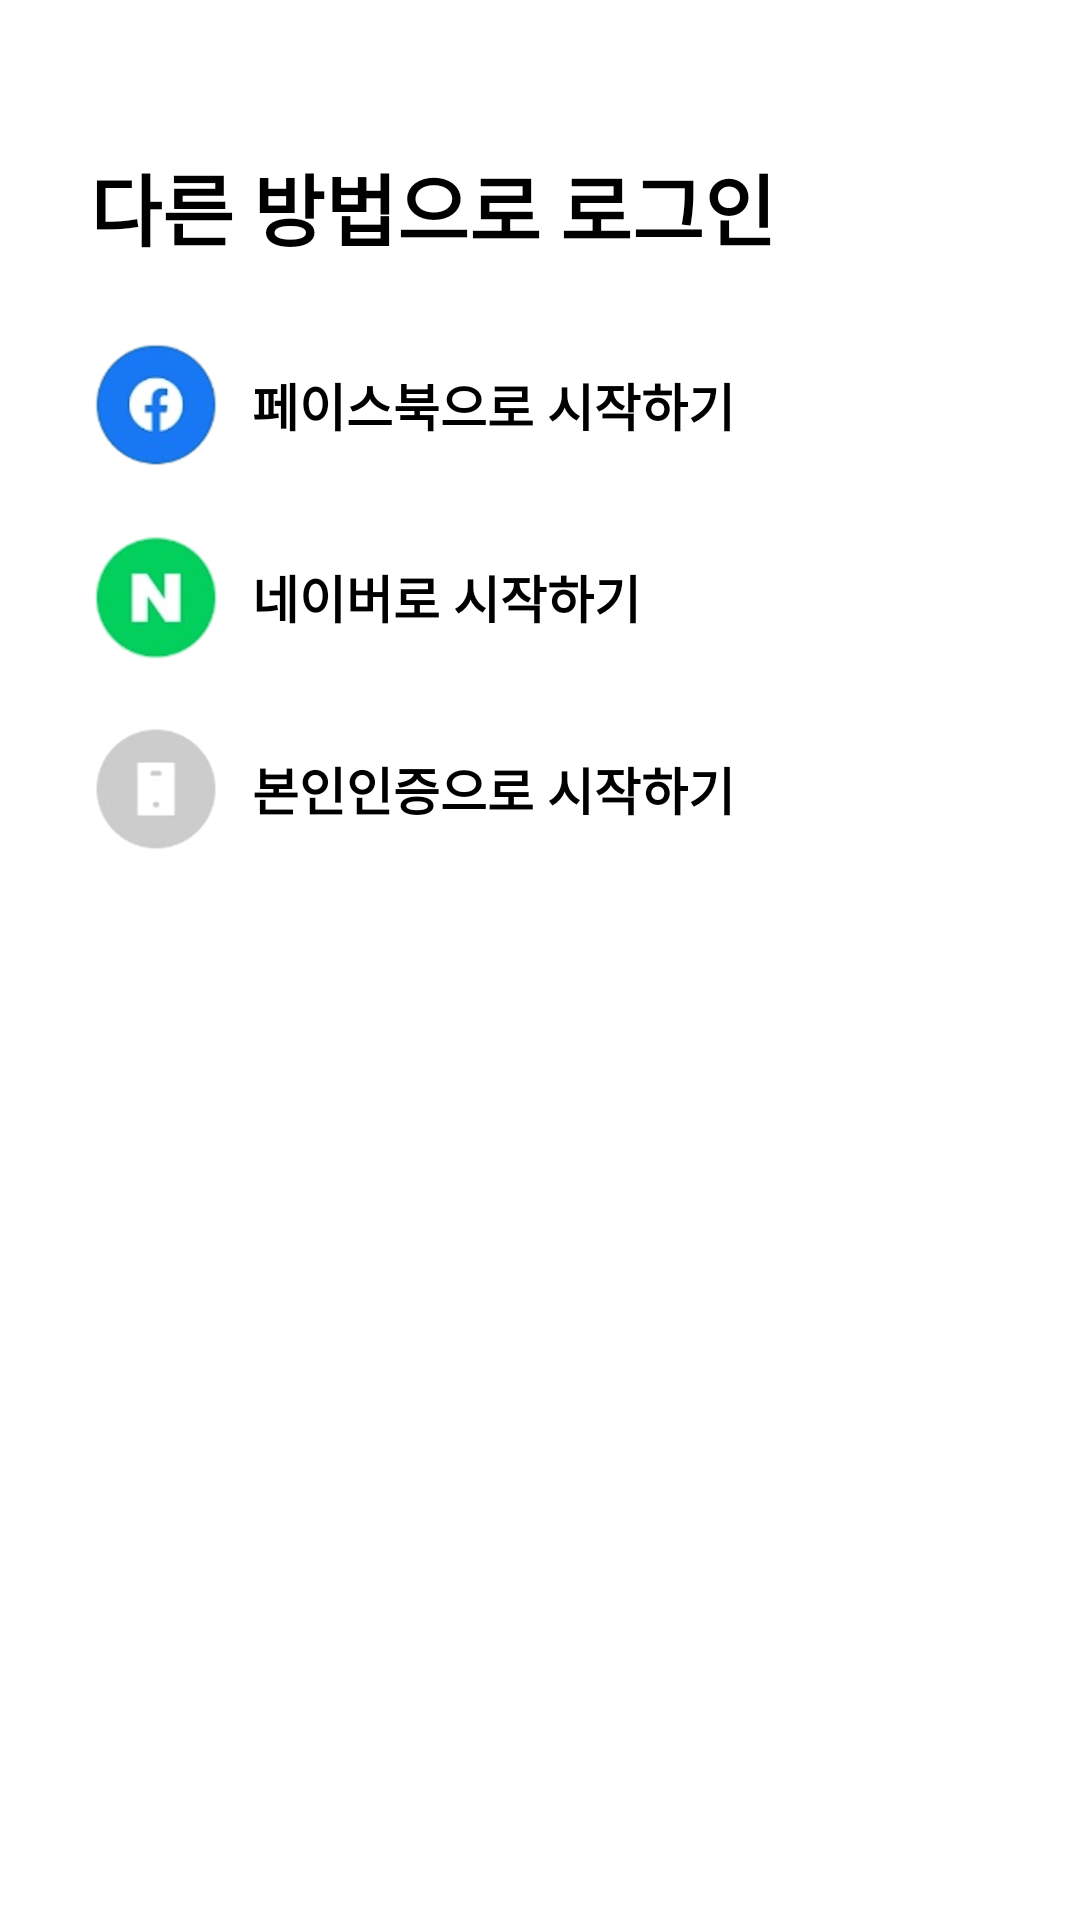

Where icons sit on this 1080px x 1920px app screen, as (x1, y1, x2, y2):
login phone: (97, 730, 215, 848)
